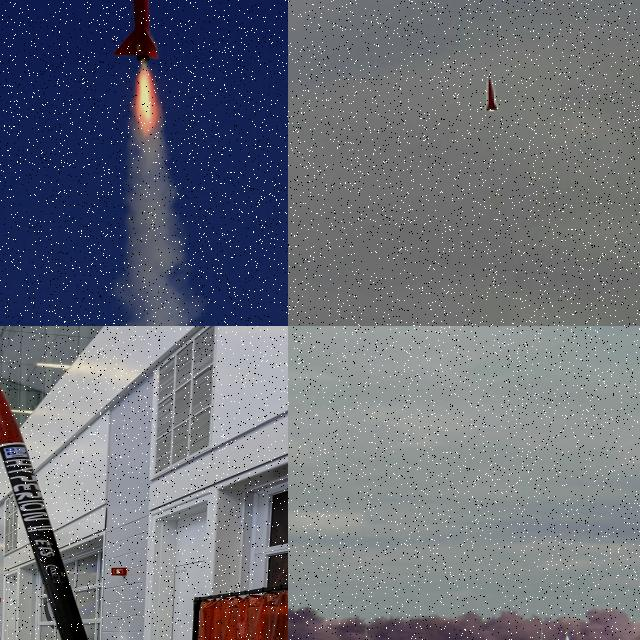Rocket: (0, 387, 88, 640), (113, 0, 160, 62), (485, 76, 499, 112)
